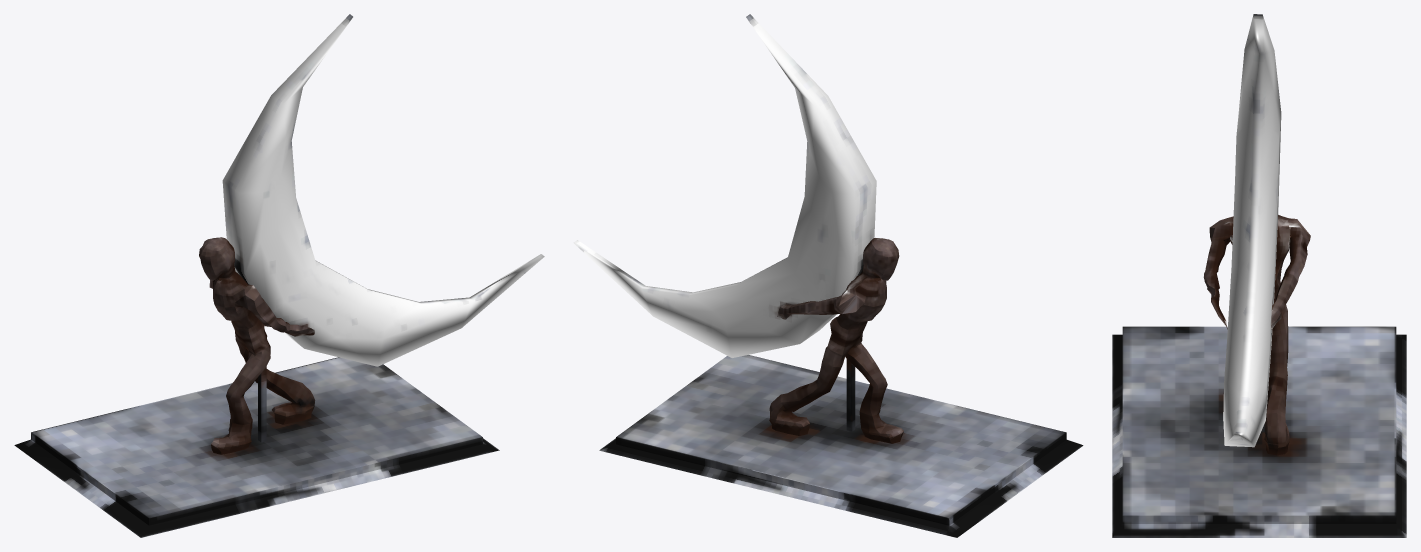
File: estatua01.glb
3 views of the same model, side by side, from view 1: azimuth 30°, elevation 25°; view 2: azimuth 150°, elevation 25°; view 3: azimuth 270°, elevation 25° (orthographic). The views are drawn at different scales.
Parts seen in each view (by area): view 1: estatueta_low; view 2: estatueta_low; view 3: estatueta_low.
Boxes of the visible parts, x1=… form: estatueta_low: x1=14, y1=14, x2=544, y2=537; estatueta_low: x1=573, y1=14, x2=1083, y2=537; estatueta_low: x1=1112, y1=14, x2=1406, y2=537.
Bounding box in the file's own units: 0.5336 × 0.4586 × 0.257.
1 material, 1 textured.
